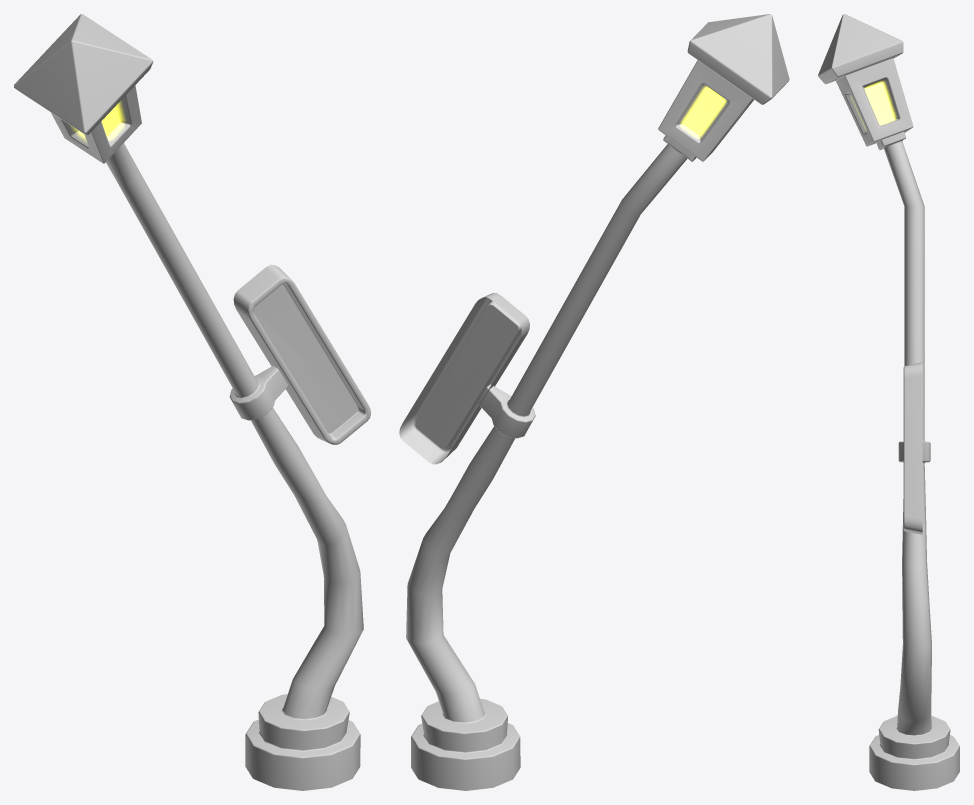
Rendered from Street_lamp_broken.fbx.
3 renders of one model, left to right at view 1: azimuth 30°, elevation 25°; view 2: azimuth 150°, elevation 25°; view 3: azimuth 270°, elevation 25°, orthographic. The views are drawn at different scales.
Parts seen in each view (by area): view 1: Street_lamp_broken; view 2: Street_lamp_broken; view 3: Street_lamp_broken.
Part boxes in pixels (bbox=[...]): Street_lamp_broken: bbox=[14, 14, 370, 790]; Street_lamp_broken: bbox=[399, 14, 789, 790]; Street_lamp_broken: bbox=[818, 14, 959, 790].
Size of the model in its own units: 2.64 by 5.62 by 1.11.
